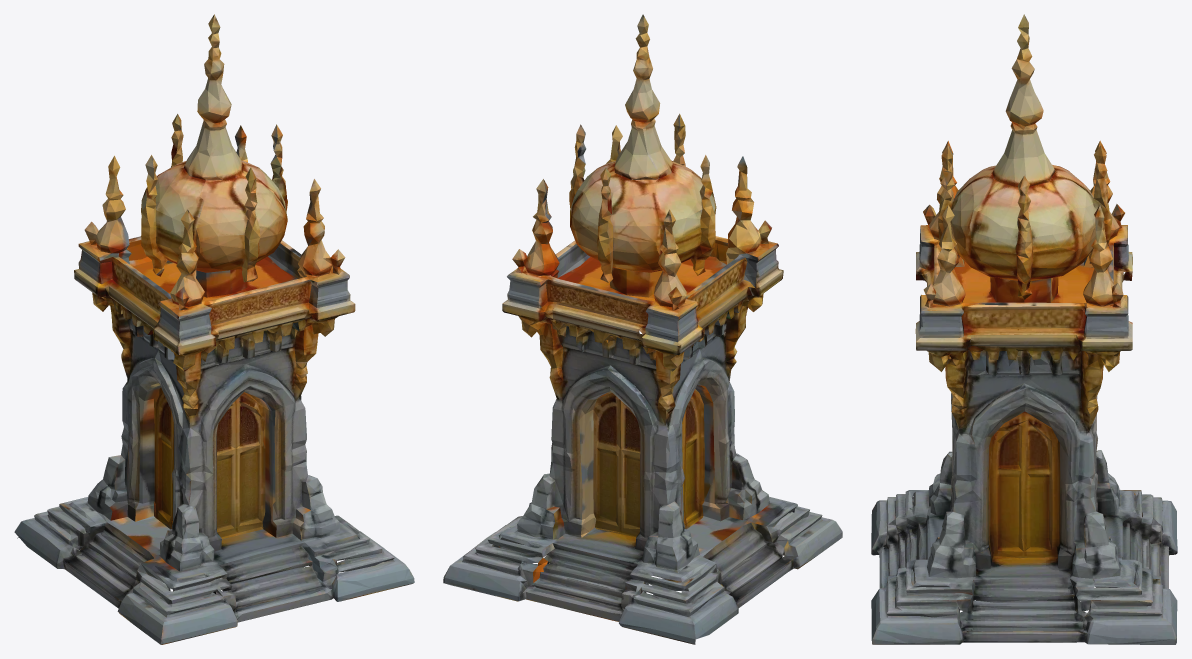
Rendered from golden_temple.glb.
3 renders of one model, left to right at view 1: azimuth 30°, elevation 25°; view 2: azimuth 150°, elevation 25°; view 3: azimuth 270°, elevation 25°, orthographic. The views are drawn at different scales.
Size of the model in its own units: 0.9604 by 1.98 by 0.9686.
1 material, 1 textured.
